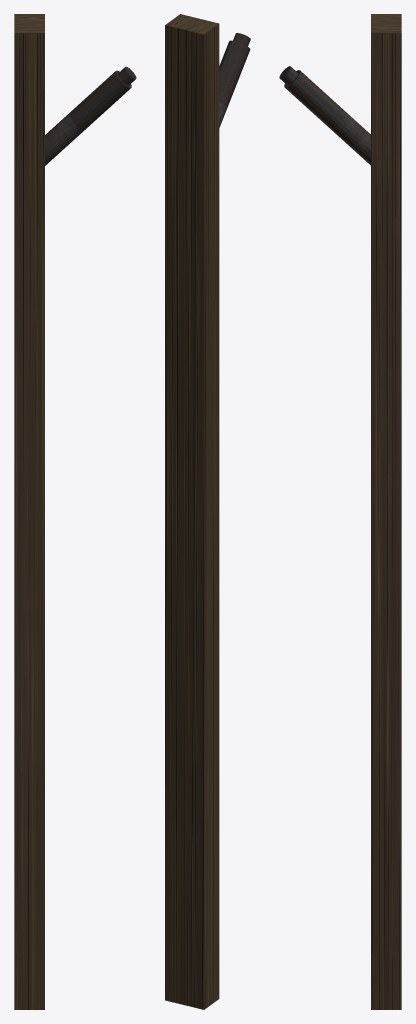
Rendered from torch_post.fbx.
3 renders of one model, left to right at view 1: azimuth 90°, elevation 25°; view 2: azimuth 150°, elevation 25°; view 3: azimuth 270°, elevation 25°, orthographic.
Parts seen in each view (by area): view 1: pCube7; view 2: pCube7; view 3: pCube7.
Boxes of the visible parts, x1,y1,x2,y2 form: pCube7: (14, 14, 136, 1009); pCube7: (165, 14, 250, 1009); pCube7: (279, 14, 401, 1009).
Size of the model in its own units: 1.9 by 45.19 by 5.12.
4 materials, 3 textured.
